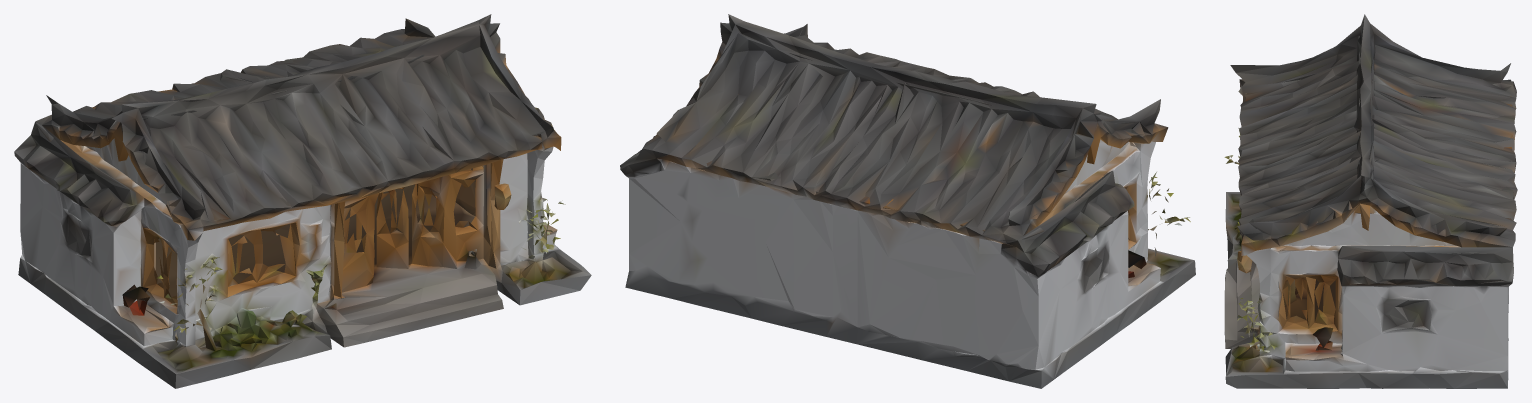
The model's file is lib_courtyard.vc.glb.
The picture shows the model from 3 angles, left to right: view 1: azimuth 30°, elevation 25°; view 2: azimuth 150°, elevation 25°; view 3: azimuth 270°, elevation 25°; orthographic projection. The views are drawn at different scales.
Visible parts, largest first — view 1: lib_courtyard; view 2: lib_courtyard; view 3: lib_courtyard.
Part boxes in pixels (box(x1,y1,x2,y2)): lib_courtyard: box(14, 14, 591, 388); lib_courtyard: box(620, 14, 1195, 388); lib_courtyard: box(1224, 14, 1517, 388).
Bounding box in the file's own units: 1.87 × 0.9284 × 1.22.
